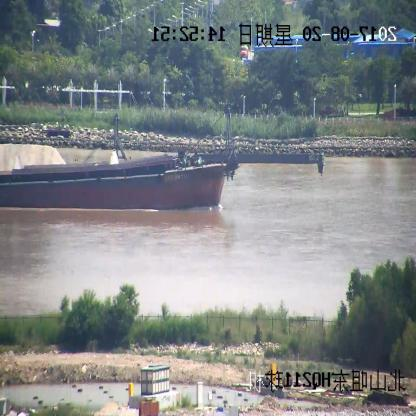Bulk Carrier: (1, 111, 323, 210)
